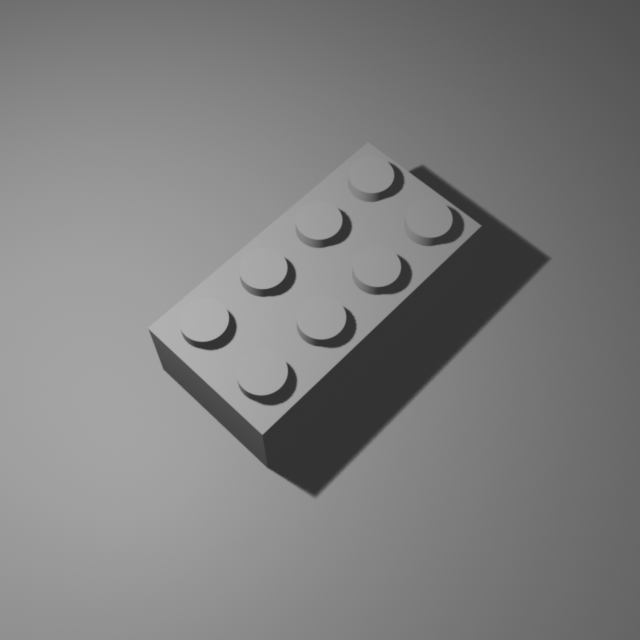lego_2x4: (145, 133, 484, 468)
